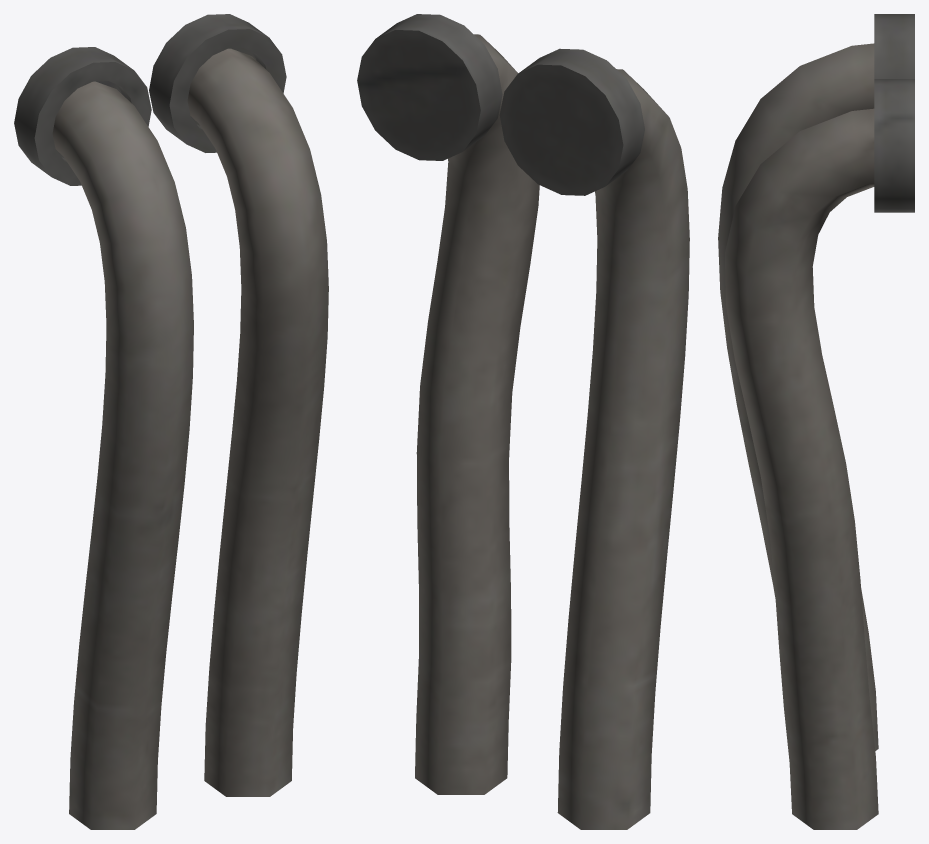
Rendered from cable_cable_double_end.fbx.
The picture shows the model from 3 angles, left to right: view 1: azimuth 30°, elevation 25°; view 2: azimuth 150°, elevation 25°; view 3: azimuth 270°, elevation 25°; orthographic projection. The views are drawn at different scales.
Visible parts, largest first — view 1: modular_electric_cables__cable_double_end; view 2: modular_electric_cables__cable_double_end; view 3: modular_electric_cables__cable_double_end.
Part boxes in pixels (x1,y1,x2,y2): modular_electric_cables__cable_double_end: (14,14,328,829); modular_electric_cables__cable_double_end: (357,14,689,829); modular_electric_cables__cable_double_end: (718,14,914,829).
Bounding box in the file's own units: 0.0373 × 0.1041 × 0.0255.
